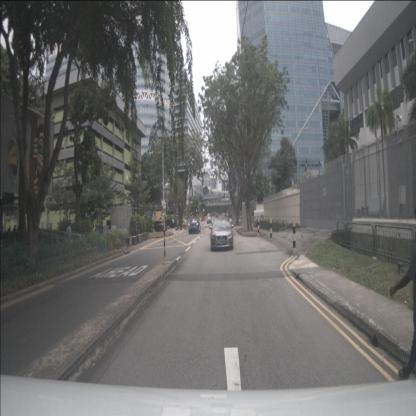human-pedestrian-adult: (389, 208, 416, 384), (66, 222, 72, 254), (99, 221, 104, 245), (133, 221, 138, 240), (176, 218, 180, 230), (172, 218, 175, 228)
vehicle-car: (211, 218, 233, 250), (253, 209, 269, 225), (188, 218, 200, 233), (150, 221, 164, 232), (206, 217, 212, 224)
